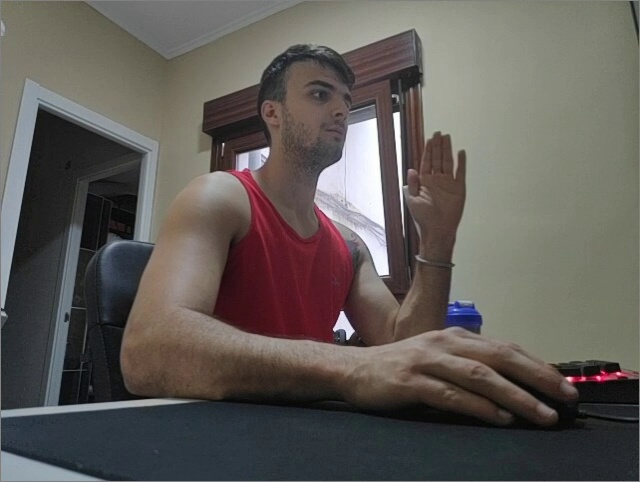Palm: (406, 128, 466, 232)
